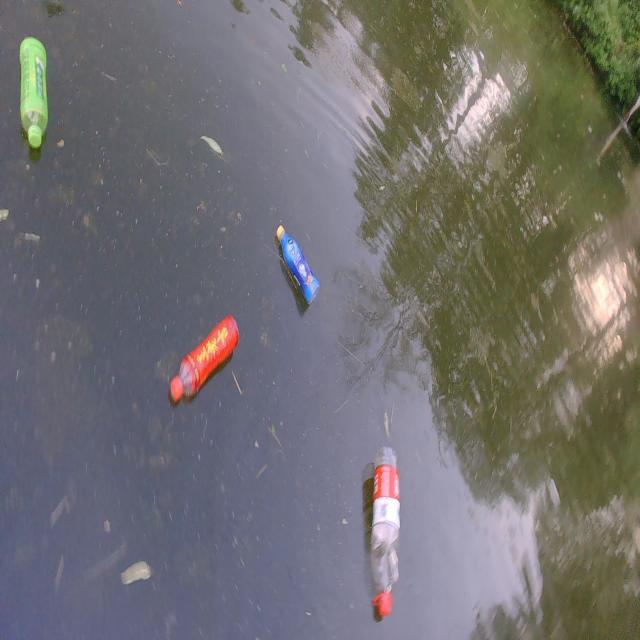bottle: (150, 282, 262, 424), (359, 441, 416, 624), (261, 209, 337, 313), (12, 29, 64, 155)
